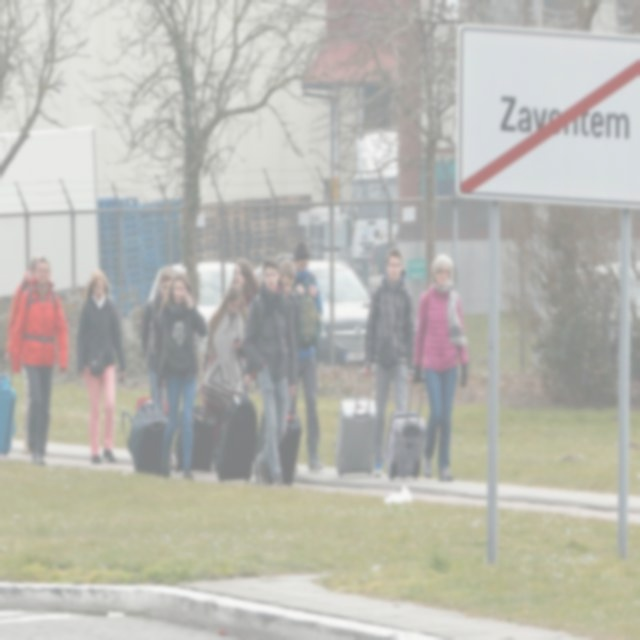pessoa: (410, 251, 470, 482), (243, 256, 298, 487), (10, 255, 69, 466), (364, 245, 416, 481), (154, 268, 209, 482), (74, 266, 128, 466), (260, 257, 298, 488), (291, 239, 326, 472), (4, 255, 42, 456), (202, 282, 248, 448), (213, 256, 262, 382), (140, 265, 177, 413)
